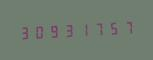five: (107, 18, 121, 37)
nine: (47, 21, 61, 40)
one: (77, 19, 91, 39)
seven: (92, 19, 106, 38), (122, 17, 136, 36)
three: (17, 23, 31, 42), (62, 20, 76, 39)
zero: (32, 22, 46, 41)
